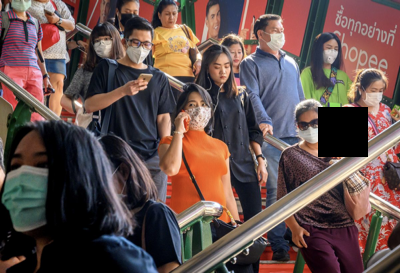with_mask: (2, 149, 50, 233), (184, 99, 213, 131), (298, 117, 327, 145), (126, 37, 152, 67), (265, 25, 287, 52), (363, 86, 386, 108), (93, 36, 114, 59), (120, 7, 141, 28), (323, 43, 341, 66), (11, 1, 33, 13)
without_mask: (210, 61, 233, 84), (161, 9, 179, 28), (230, 48, 244, 67)
